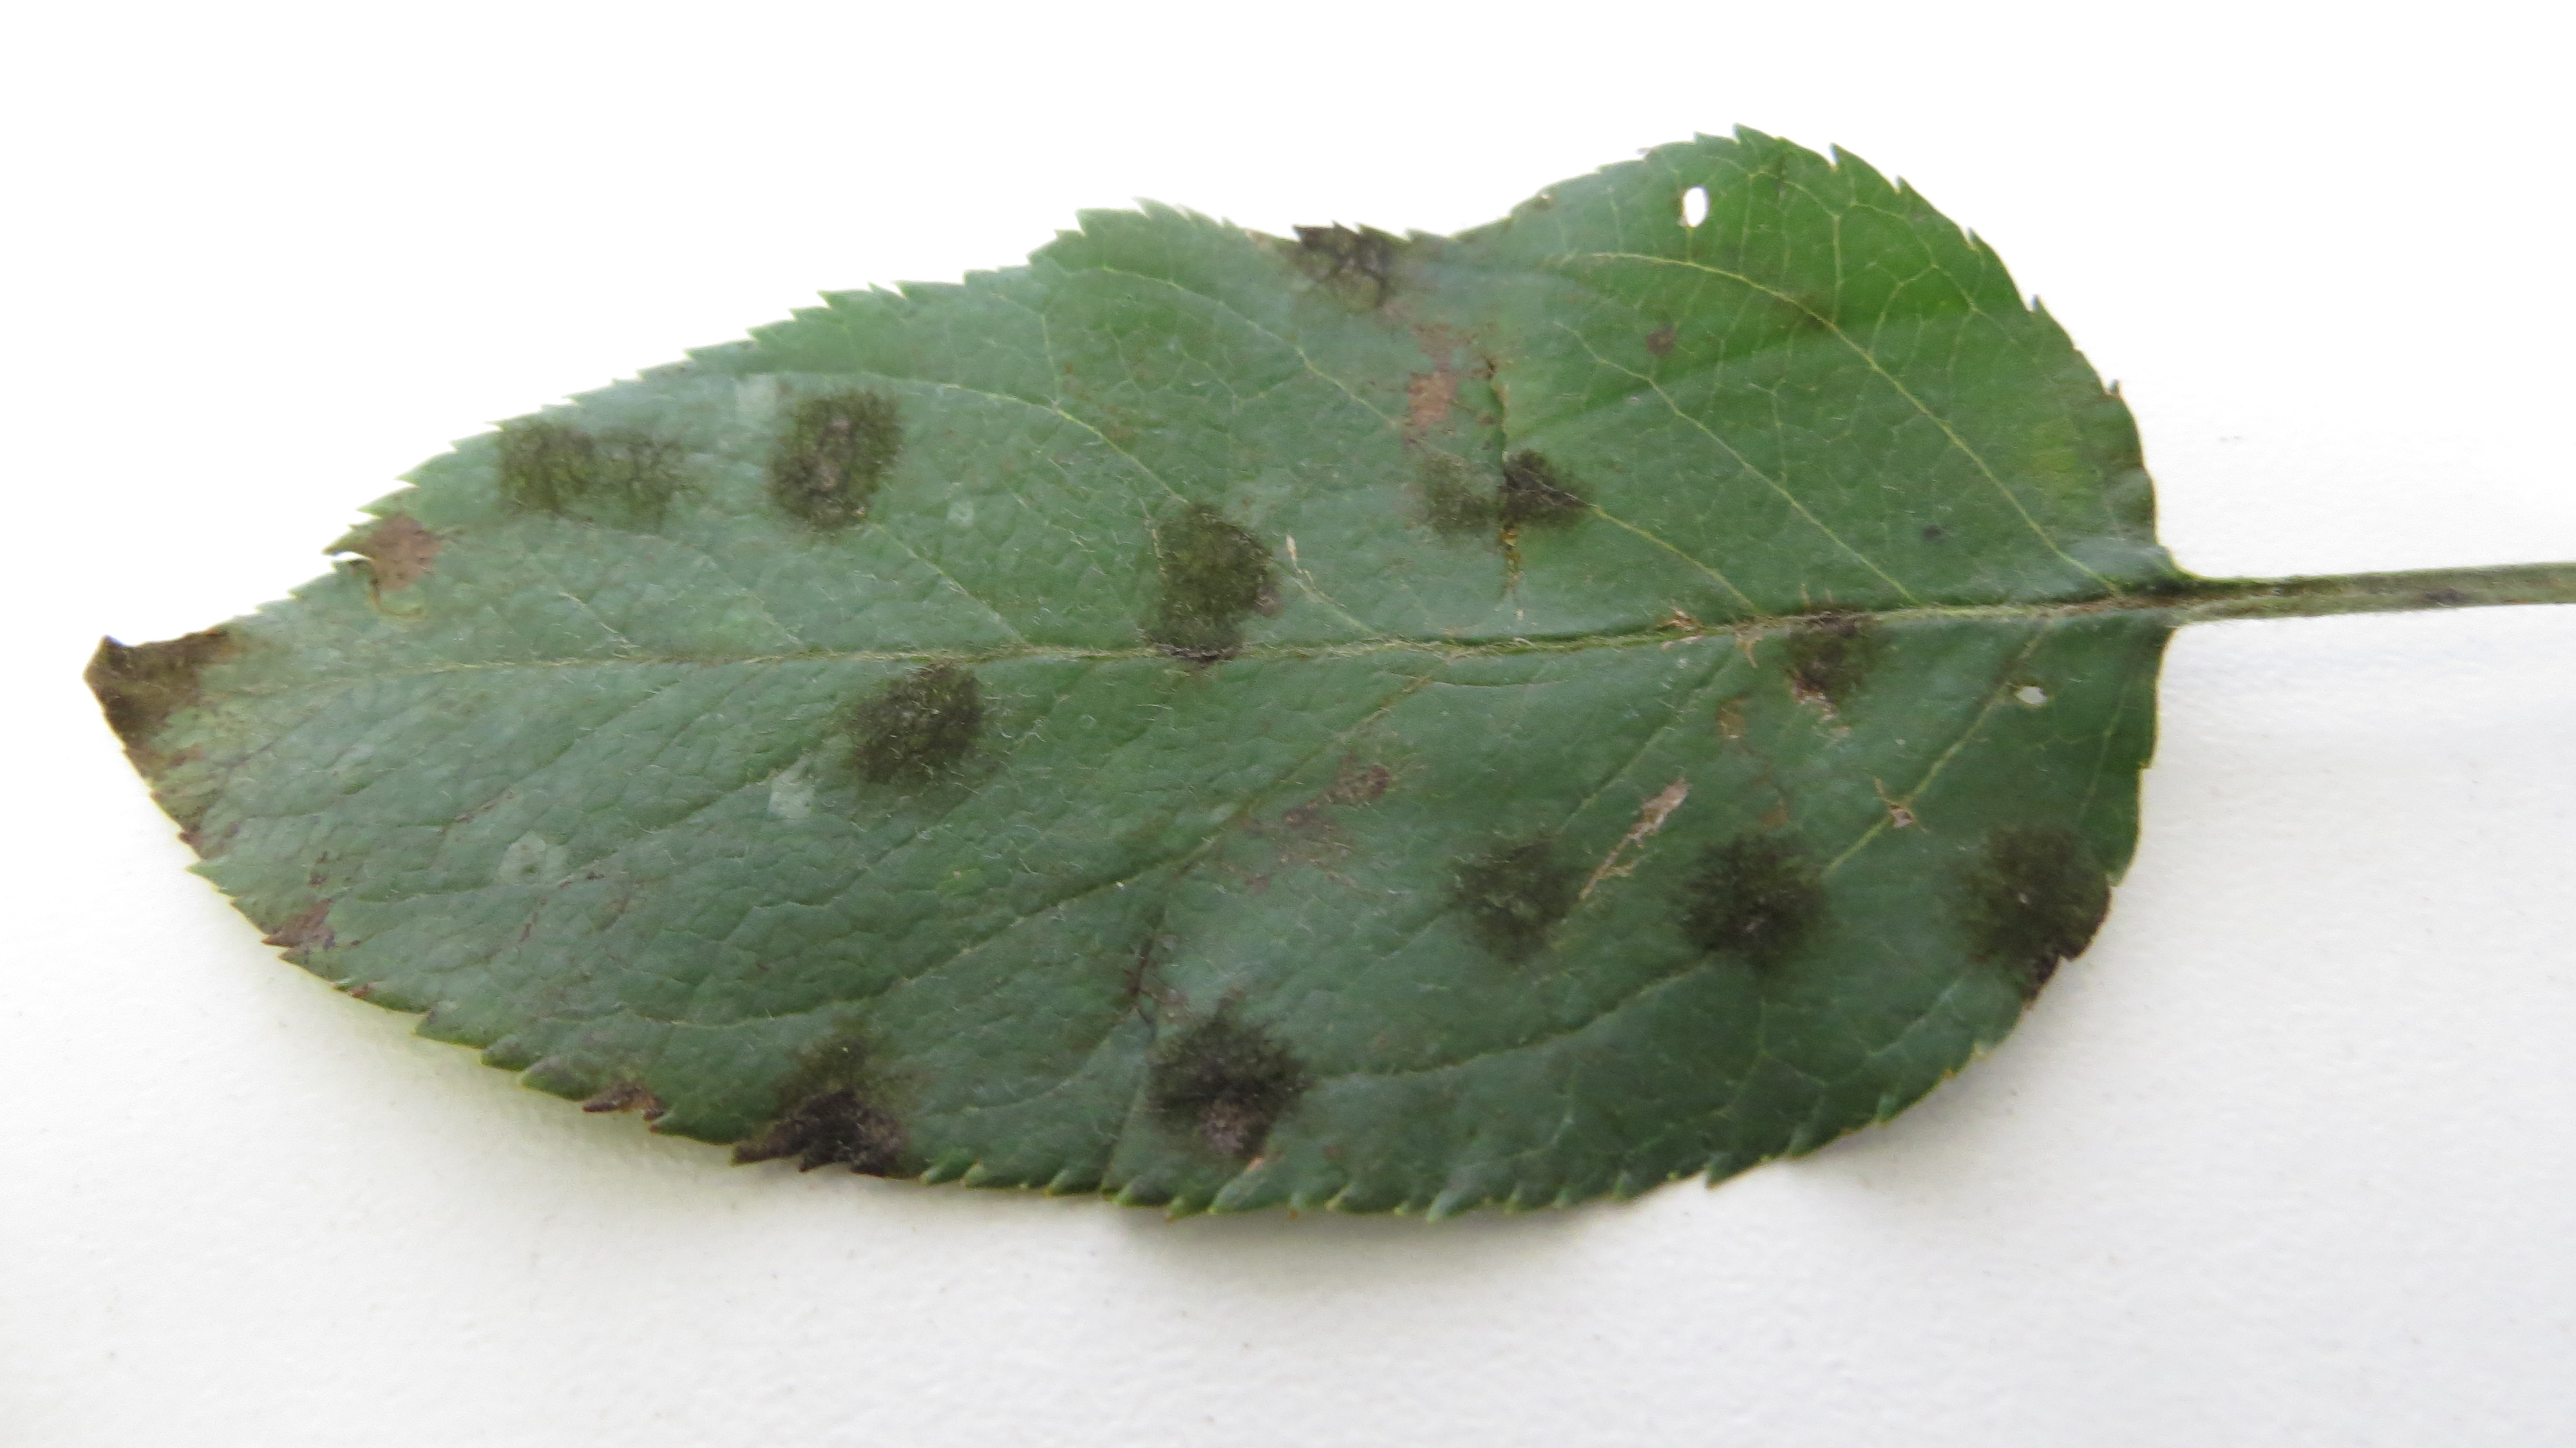sarna: (1941, 811, 2118, 1007), (1132, 993, 1316, 1181), (85, 612, 267, 786), (1652, 814, 1840, 981), (745, 365, 918, 535), (732, 1025, 934, 1170), (1258, 733, 1417, 901), (495, 405, 699, 536), (1143, 485, 1279, 680), (1430, 811, 1594, 970), (839, 659, 1005, 813), (1417, 441, 1601, 561), (1755, 577, 1895, 724), (1277, 212, 1435, 326), (331, 490, 453, 605), (1092, 897, 1201, 1009)
